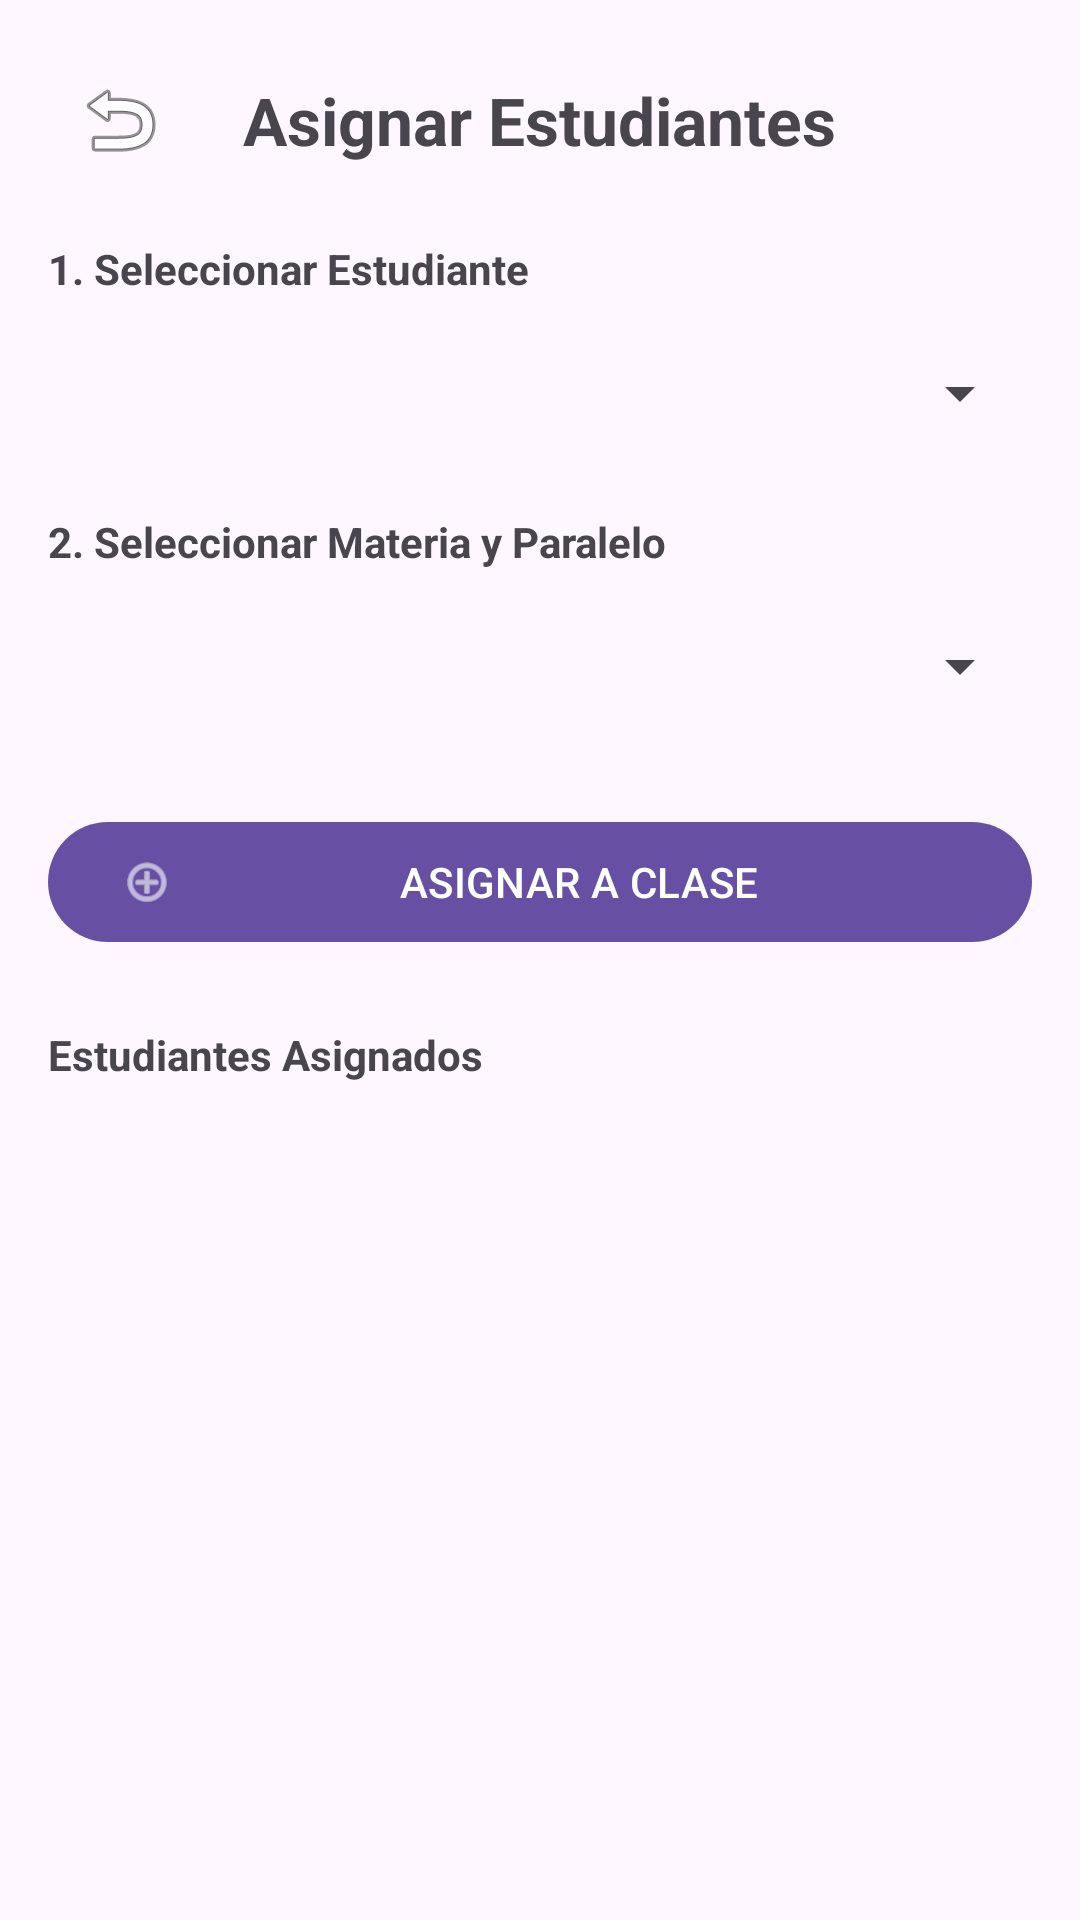

Icon click points for this 1080px×1920px phone screenshot, format [x,y]:
Atrás: [121,120]
